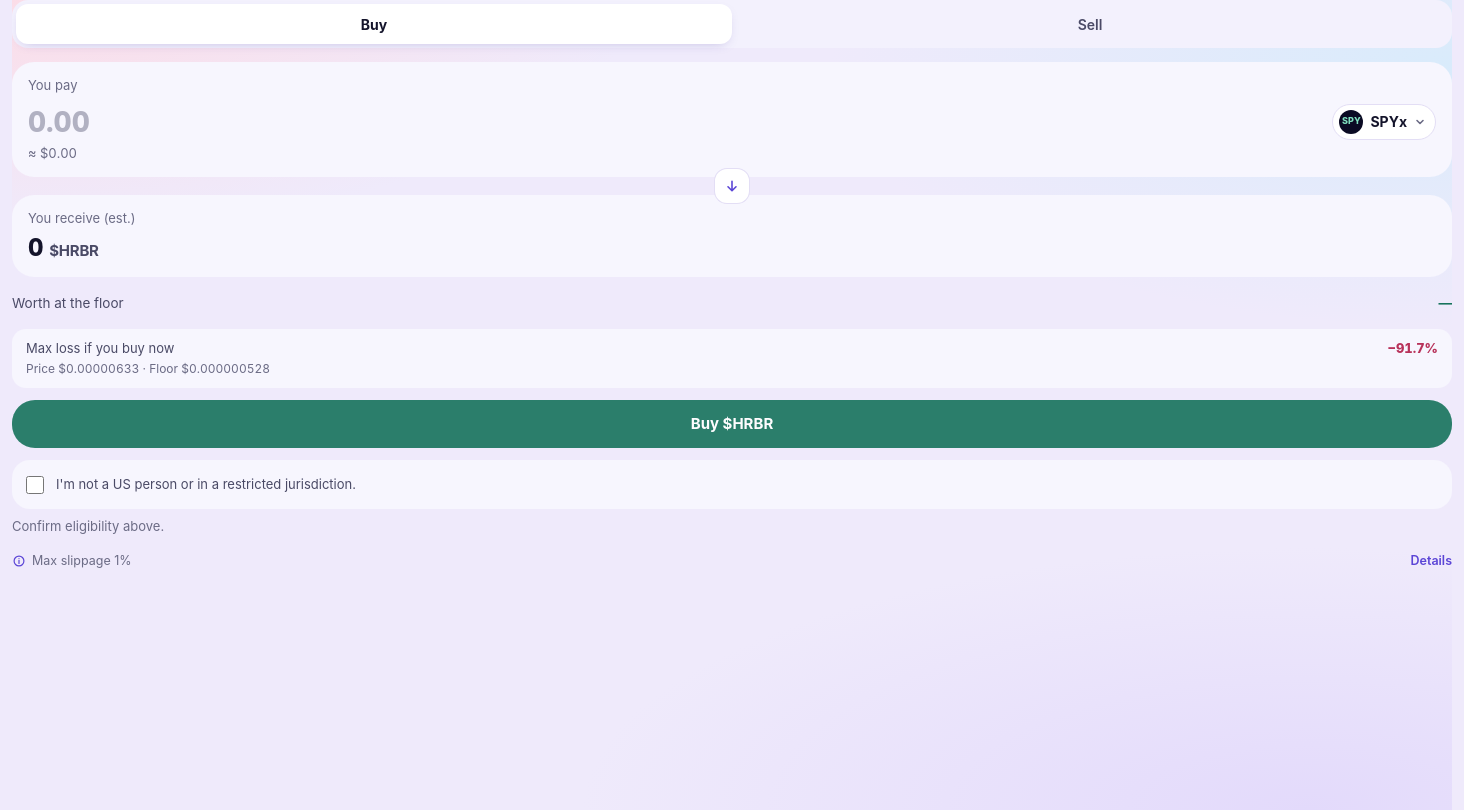
eligibility next to the buy button › shows the attestation under the button until it is confirmed, with a one-line reason
Expected: the text "Confirm eligibility above." is shown, [12,518,164,534]
Step 1. Click the checkbox labelled "I'm not a US person or in a restricted jurisdiction." → x=35, y=485, box [26,476,44,494]
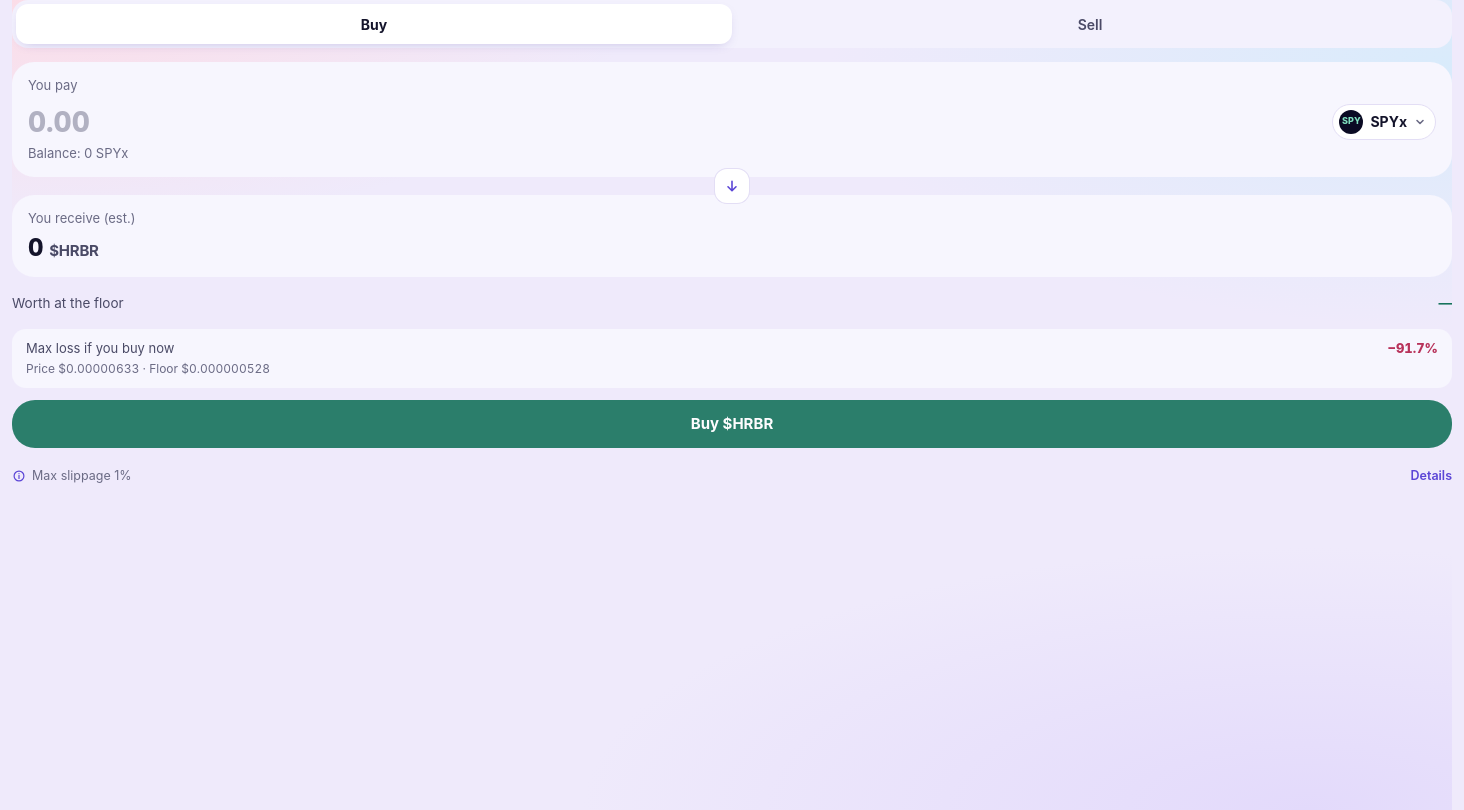
Expected: the text "not a US person" is gone
Expected: the text "Confirm eligibility above." is gone
